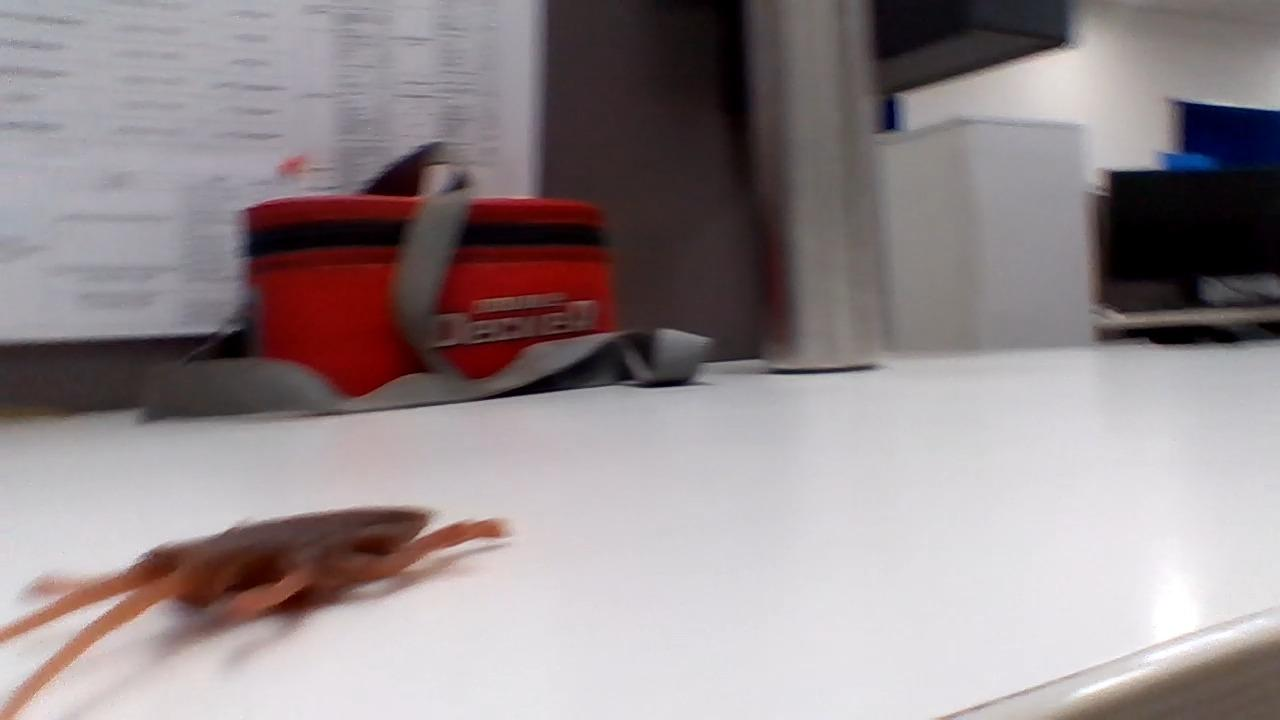cockroach: (0, 488, 506, 717)
